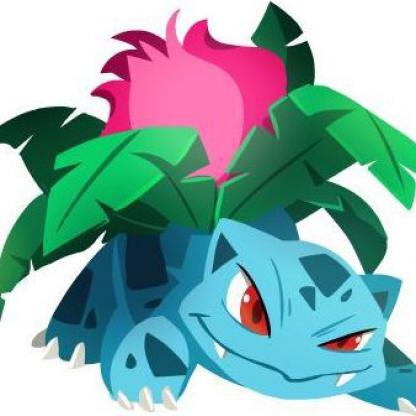Ivysaur: (1, 1, 416, 391)
